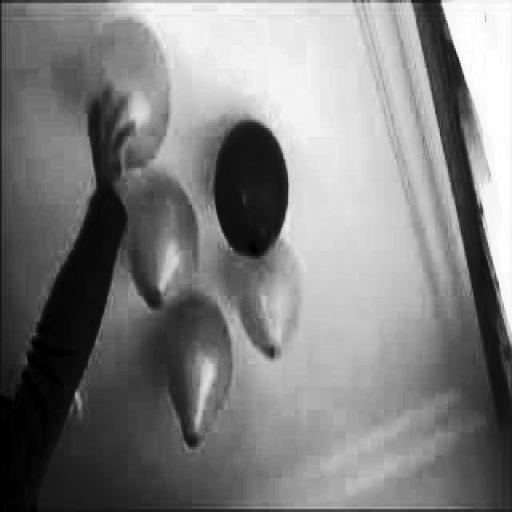balloon: (82, 18, 175, 168), (213, 120, 290, 254), (167, 299, 235, 450), (232, 231, 310, 362), (132, 176, 198, 307)
